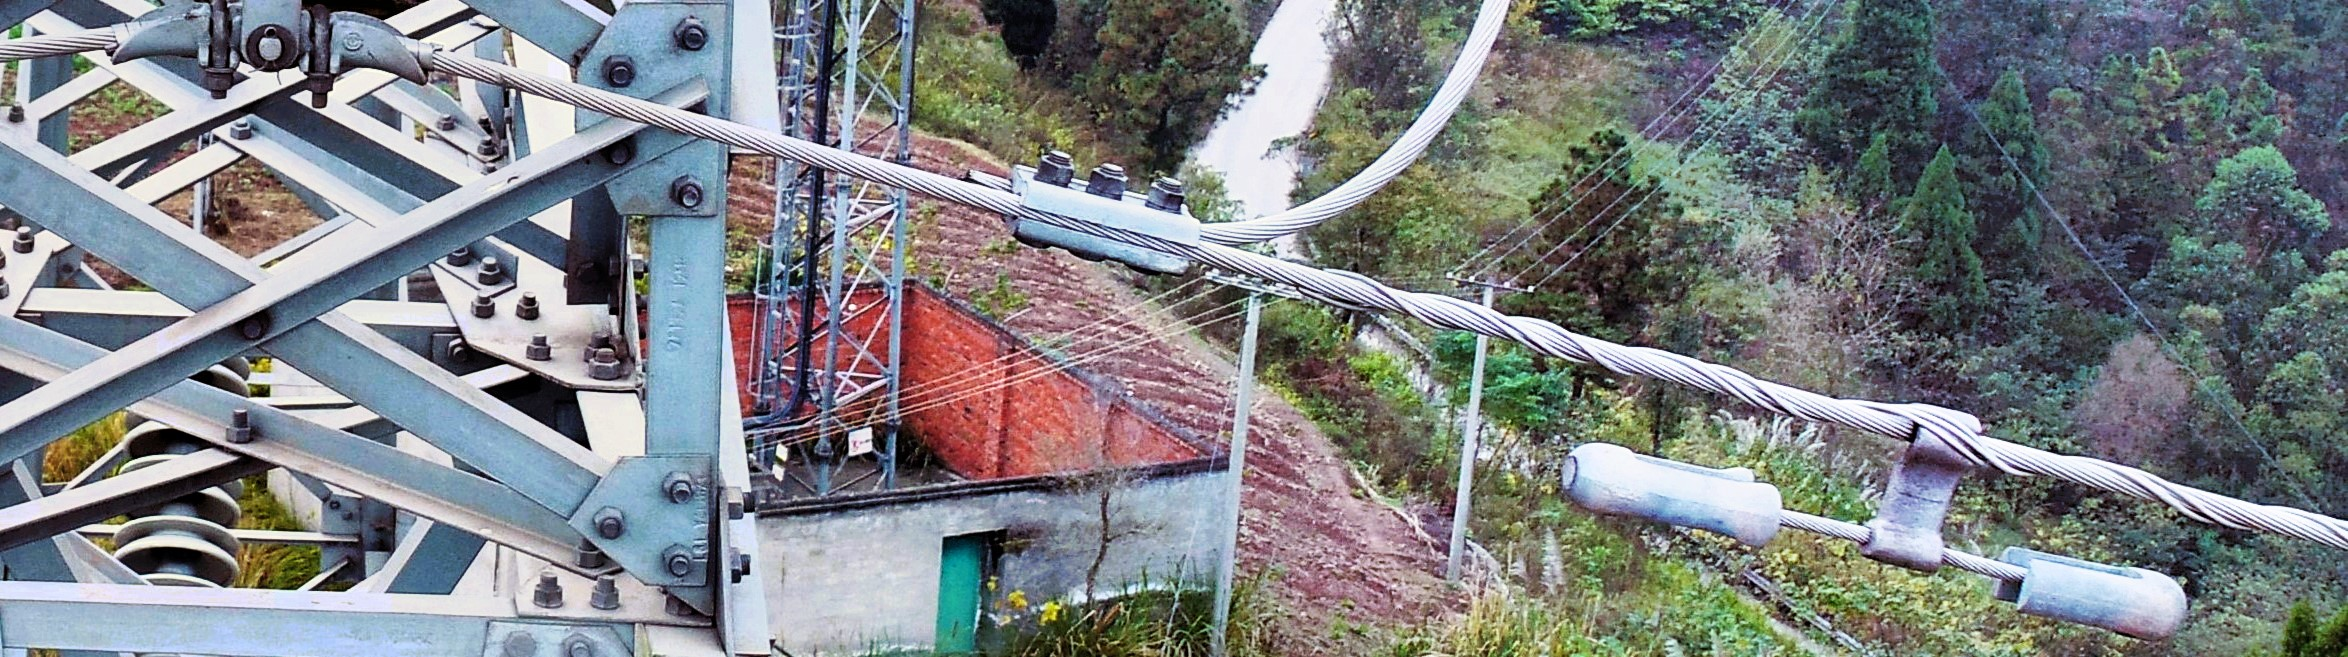Shockproof hammer: (1550, 337, 2198, 648)
